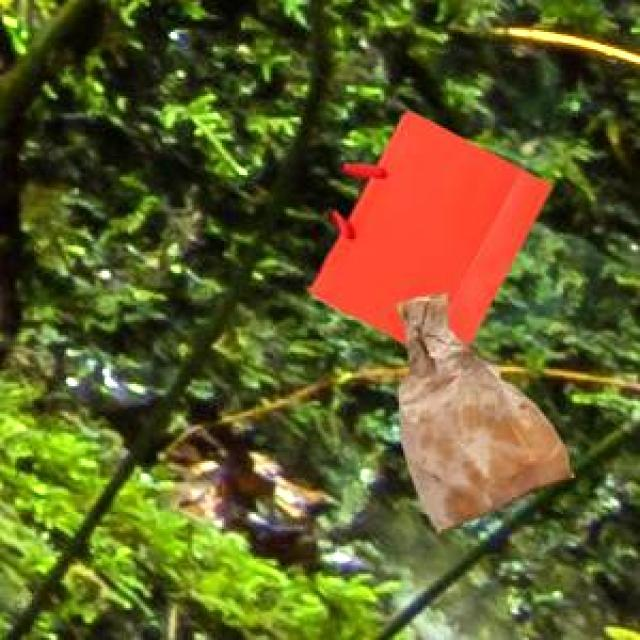Paper_Bag: (308, 108, 550, 344), (394, 291, 570, 530)
